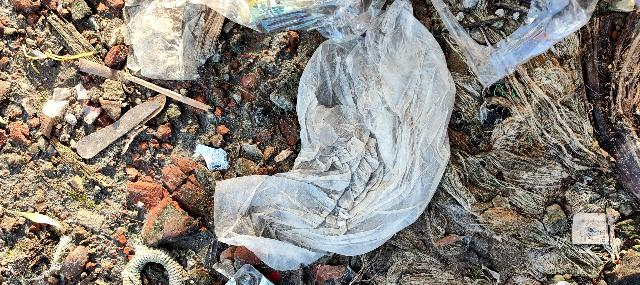polythene: (277, 21, 458, 267)
